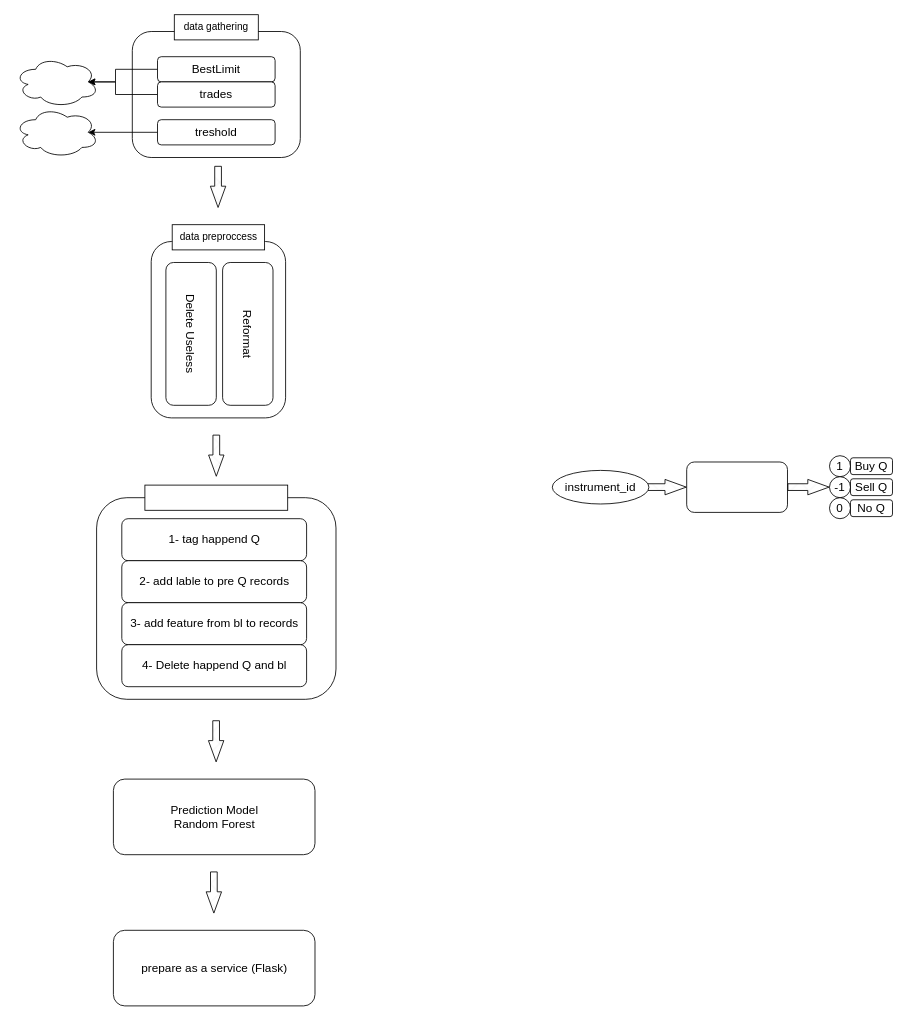
This 907x1021 diagram has some shape labels left out. Here are the shapes that lost their labels. From the top down, the centre of each, then its label:
the point at 56,81: OMS Driver
the point at 56,132: tsetmc.ir api
the point at 216,497: Feature Selection
the point at 737,486: Service
